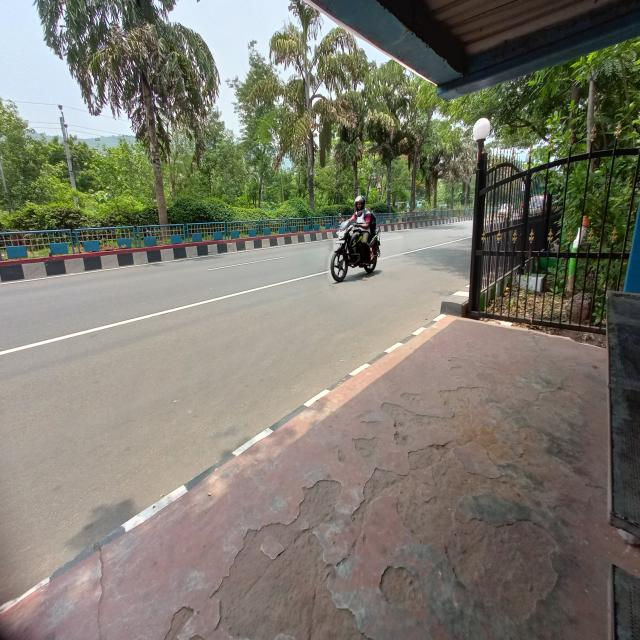bike: (324, 212, 392, 291)
